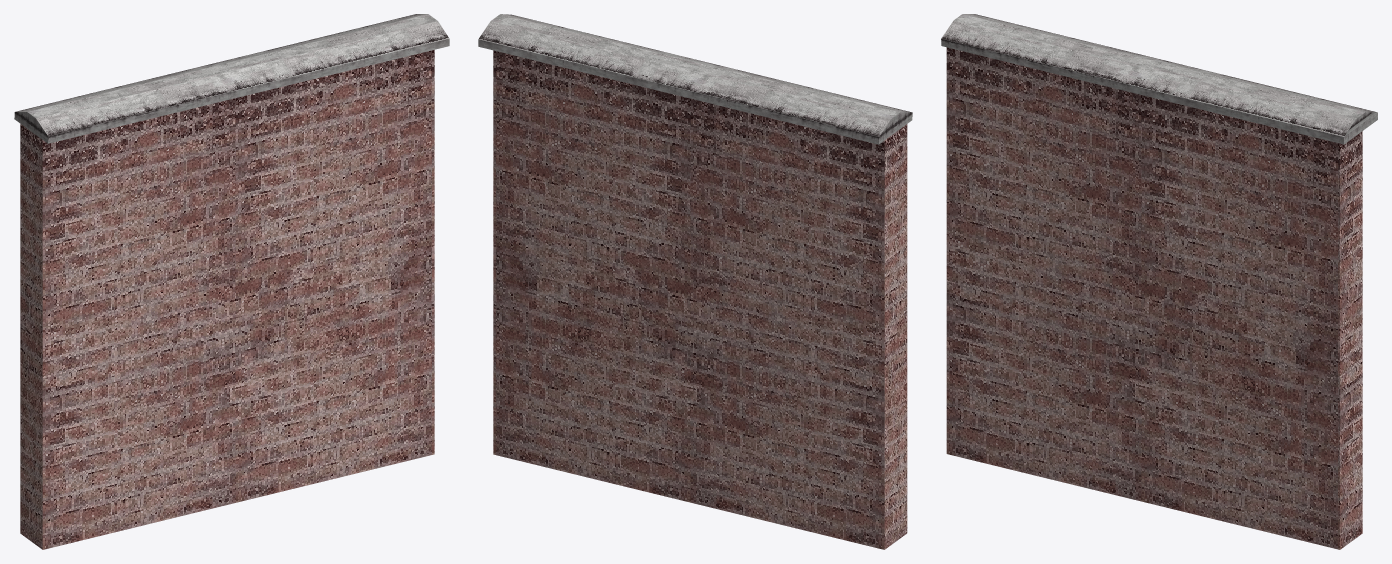
Rendered from brick_wall_one_overhang_small.glb.
The picture shows the model from 3 angles, left to right: view 1: azimuth 30°, elevation 25°; view 2: azimuth 150°, elevation 25°; view 3: azimuth 330°, elevation 25°; orthographic projection.
Parts seen in each view (by area): view 1: brick_wall_one_overhang_small; view 2: brick_wall_one_overhang_small; view 3: brick_wall_one_overhang_small.
Part boxes in pixels (x1=…): brick_wall_one_overhang_small: x1=14, y1=14, x2=449, y2=549; brick_wall_one_overhang_small: x1=478, y1=14, x2=912, y2=549; brick_wall_one_overhang_small: x1=941, y1=14, x2=1377, y2=549.
Bounding box in the file's own units: 2.56 × 2.6 × 0.3745.
Materials: 2 (2 with a texture image).
